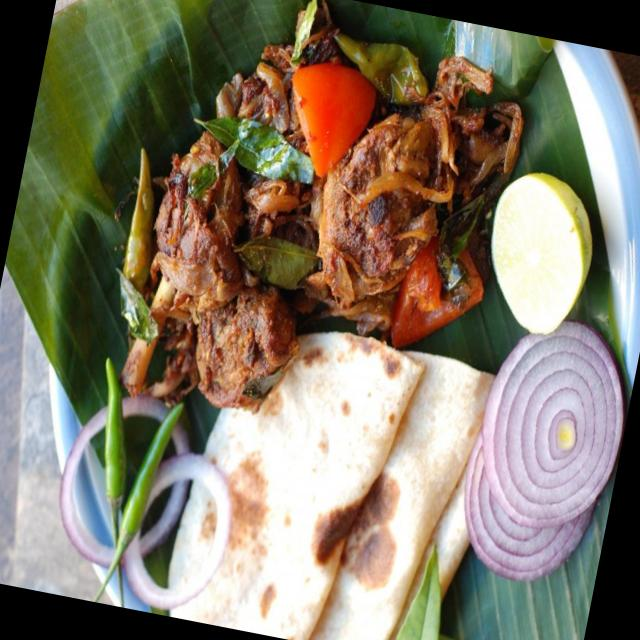chicken: (116, 14, 516, 419)
roti: (174, 323, 471, 640)
